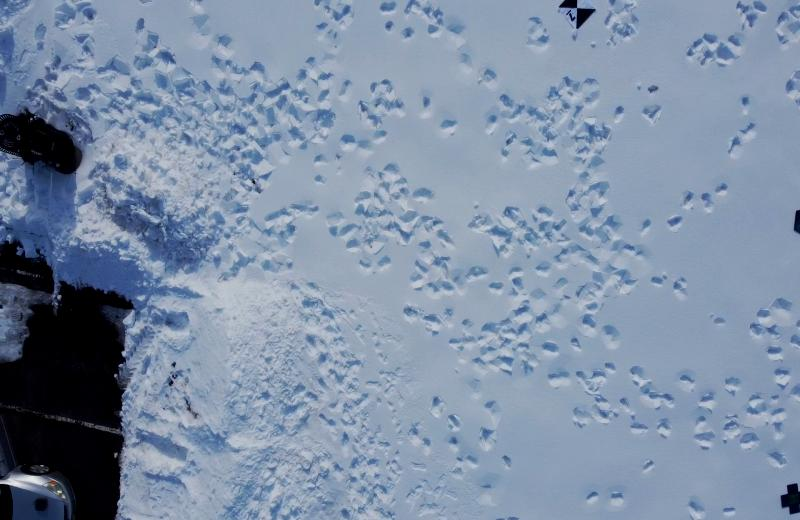Cross: (767, 464, 799, 520)
